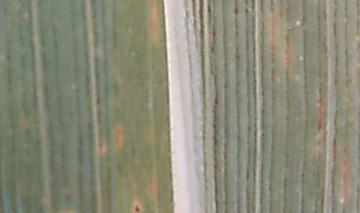tarspot: (134, 204, 140, 213)
